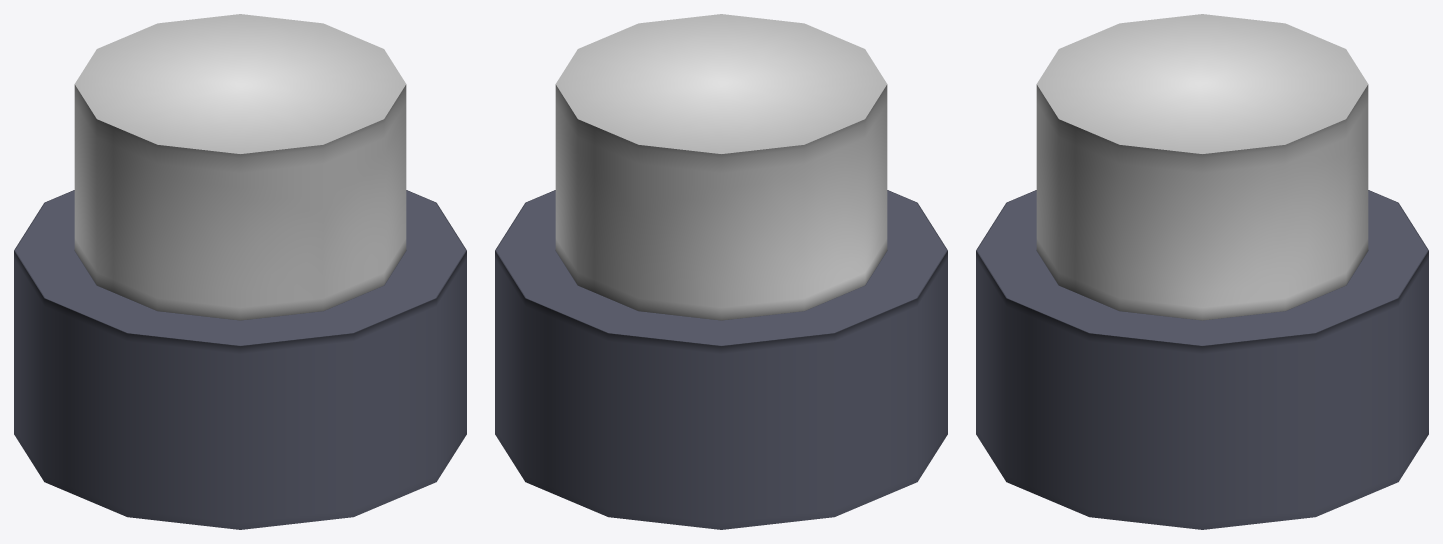
Rendered from Button_Circular_White.FBX.
3 renders of one model, left to right at view 1: azimuth 30°, elevation 25°; view 2: azimuth 150°, elevation 25°; view 3: azimuth 270°, elevation 25°, orthographic.
Visible parts, largest first — view 1: Button_Circular_White, Push_Me; view 2: Button_Circular_White, Push_Me; view 3: Button_Circular_White, Push_Me.
Boxes of the visible parts, x1,y1,x2,y2 form: Button_Circular_White: (14,190,466,529); Push_Me: (74,14,406,320); Button_Circular_White: (495,190,947,529); Push_Me: (555,14,887,320); Button_Circular_White: (976,190,1428,529); Push_Me: (1036,14,1368,320).
Size of the model in its own units: 0.0863 by 0.0736 by 0.0863.
